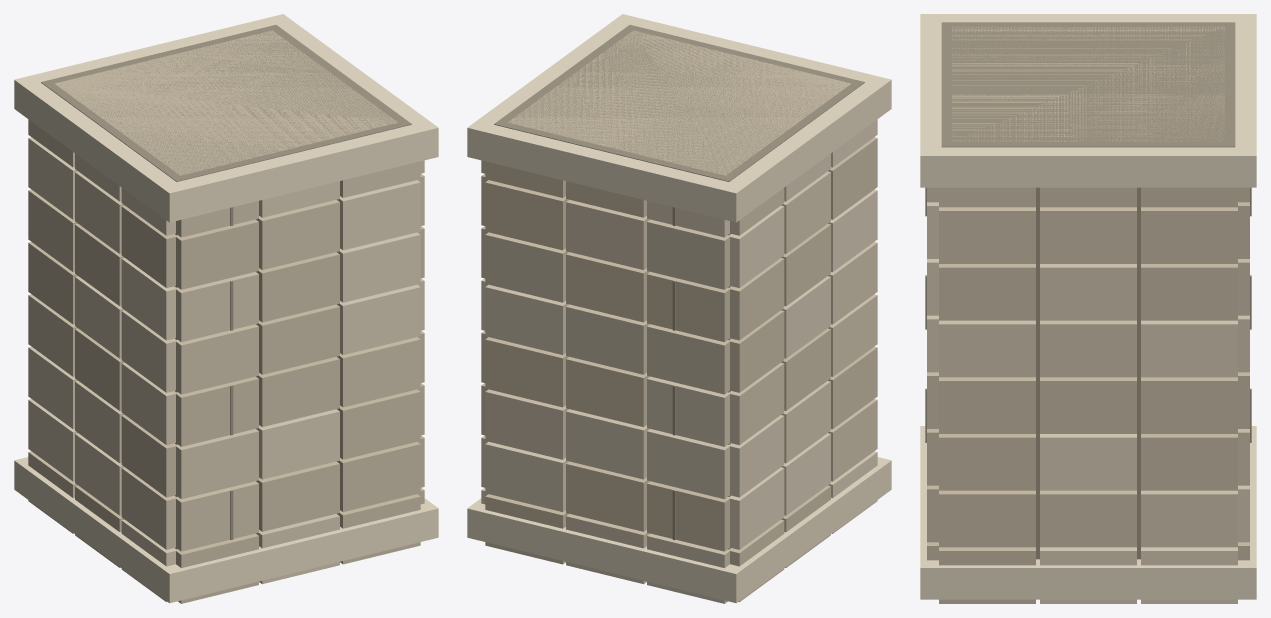
3 renders of one model, left to right at view 1: azimuth 30°, elevation 25°; view 2: azimuth 150°, elevation 25°; view 3: azimuth 270°, elevation 25°, orthographic. The views are drawn at different scales.
Parts seen in each view (by area): view 1: Bergfried – Steine, Säulen, Ziegel und Feuerstelle; view 2: Bergfried – Steine, Säulen, Ziegel und Feuerstelle; view 3: Bergfried – Steine, Säulen, Ziegel und Feuerstelle.
Part boxes in pixels (x1,y1,x2,y2): Bergfried – Steine, Säulen, Ziegel und Feuerstelle: (14, 14, 438, 603); Bergfried – Steine, Säulen, Ziegel und Feuerstelle: (467, 14, 891, 603); Bergfried – Steine, Säulen, Ziegel und Feuerstelle: (920, 14, 1256, 603).
Size of the model in its own units: 222 by 330 by 222.
